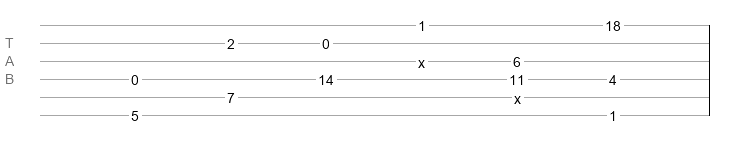0: (131, 72, 139, 82), (322, 36, 330, 46)
1: (418, 18, 426, 28), (609, 108, 617, 118)
11: (509, 72, 525, 82)
14: (318, 72, 334, 82)
18: (605, 18, 621, 28)
2: (227, 36, 235, 46)
4: (609, 72, 617, 82)
5: (131, 108, 139, 118)
6: (513, 54, 521, 64)
7: (227, 90, 235, 100)
x: (418, 55, 425, 63), (514, 91, 521, 99)
